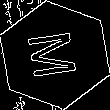M_E: (25, 28, 85, 82)
